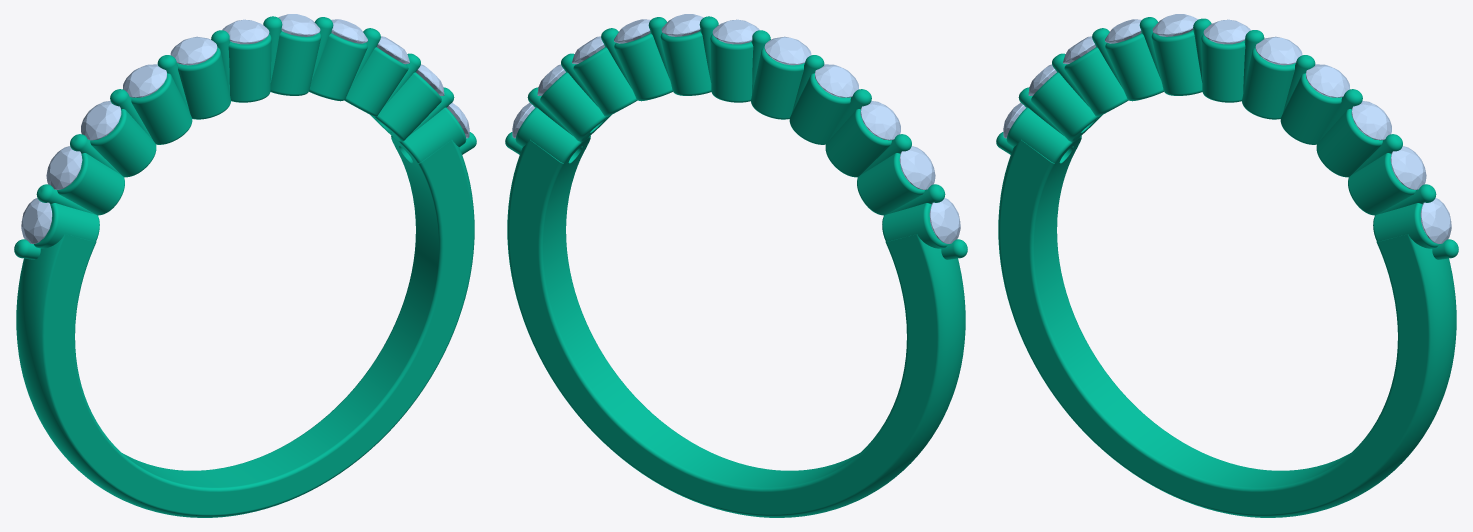
The picture shows the model from 3 angles, left to right: view 1: azimuth 30°, elevation 25°; view 2: azimuth 150°, elevation 25°; view 3: azimuth 330°, elevation 25°; orthographic projection.
Visible parts, largest first — view 1: VR-88(15.5NO.)(front).3dm, Bezel (×11), Diamond_Round (×8), Head Prong (×3); view 2: VR-88(15.5NO.)(front).3dm, Bezel (×11), Diamond_Round (×8), Head Prong (×3); view 3: VR-88(15.5NO.)(front).3dm, Bezel (×11), Diamond_Round (×8), Head Prong (×3).
Boxes of the visible parts, <box> form: VR-88(15.5NO.)(front).3dm: <box>16,140,474,517</box>; Bezel (×11): <box>34,31,466,248</box>; Diamond_Round (×8): <box>21,14,367,243</box>; Head Prong (×3): <box>36,89,152,215</box>; VR-88(15.5NO.)(front).3dm: <box>507,140,965,517</box>; Bezel (×11): <box>515,31,947,248</box>; Diamond_Round (×8): <box>614,14,960,243</box>; Head Prong (×3): <box>829,89,945,215</box>; VR-88(15.5NO.)(front).3dm: <box>998,140,1456,517</box>; Bezel (×11): <box>1006,30,1438,248</box>; Diamond_Round (×8): <box>1105,14,1451,243</box>; Head Prong (×3): <box>1320,89,1436,215</box>.
Bounding box in the file's own units: 2.81 × 2.83 × 0.2772.
